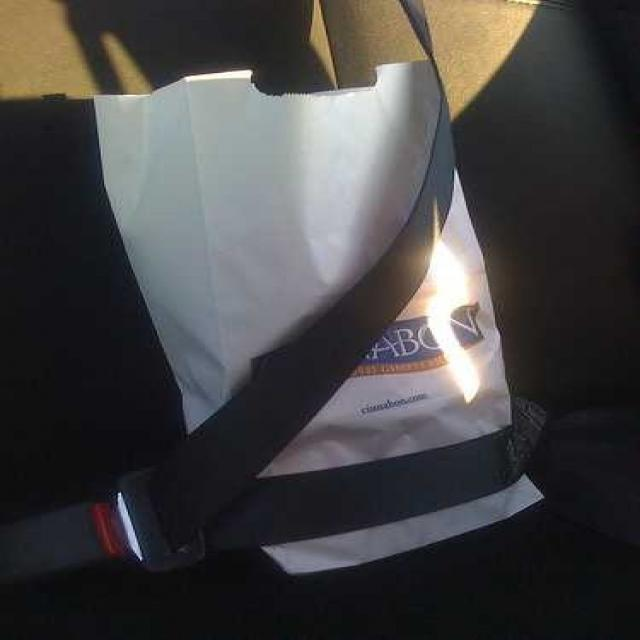seatbelt: (13, 2, 484, 602)
